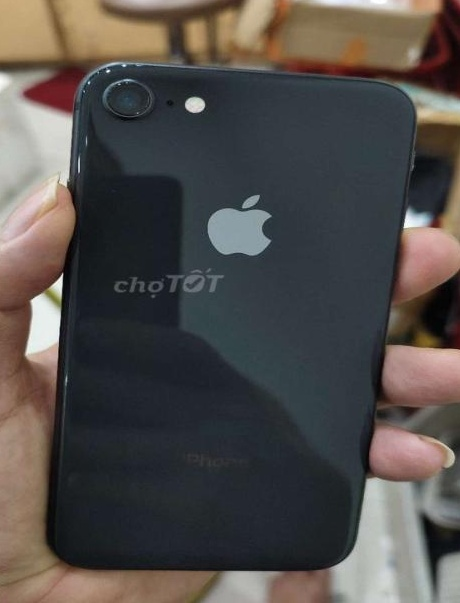scratch: (66, 61, 148, 89), (67, 137, 92, 177)
